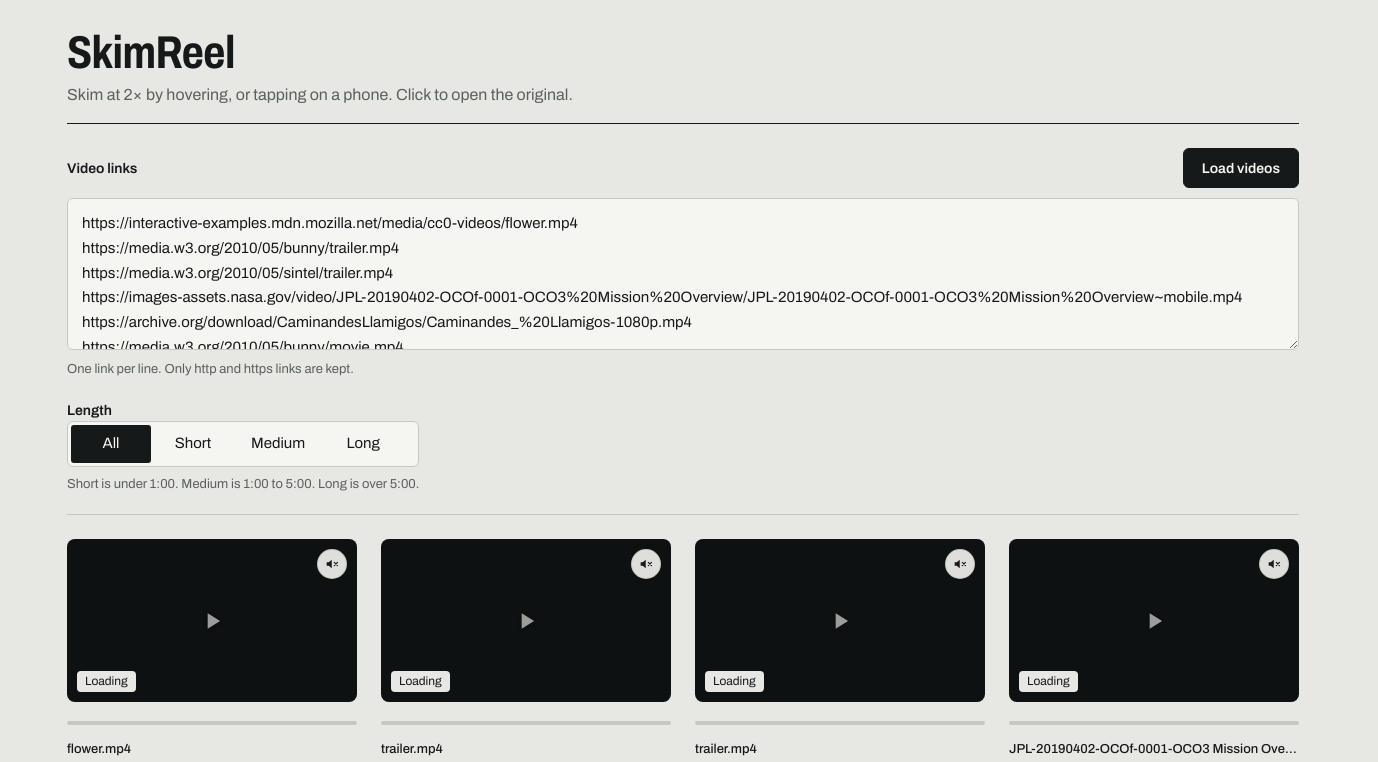
the length filter › hides videos with unknown length outside All, then moves them into place
Later steps or results of the test are not shown.
What coordinates should you click on to do the following:
click the radio button labelled "Short"
I would click on:
 (193, 444)
Its box is [175,436,211,452].
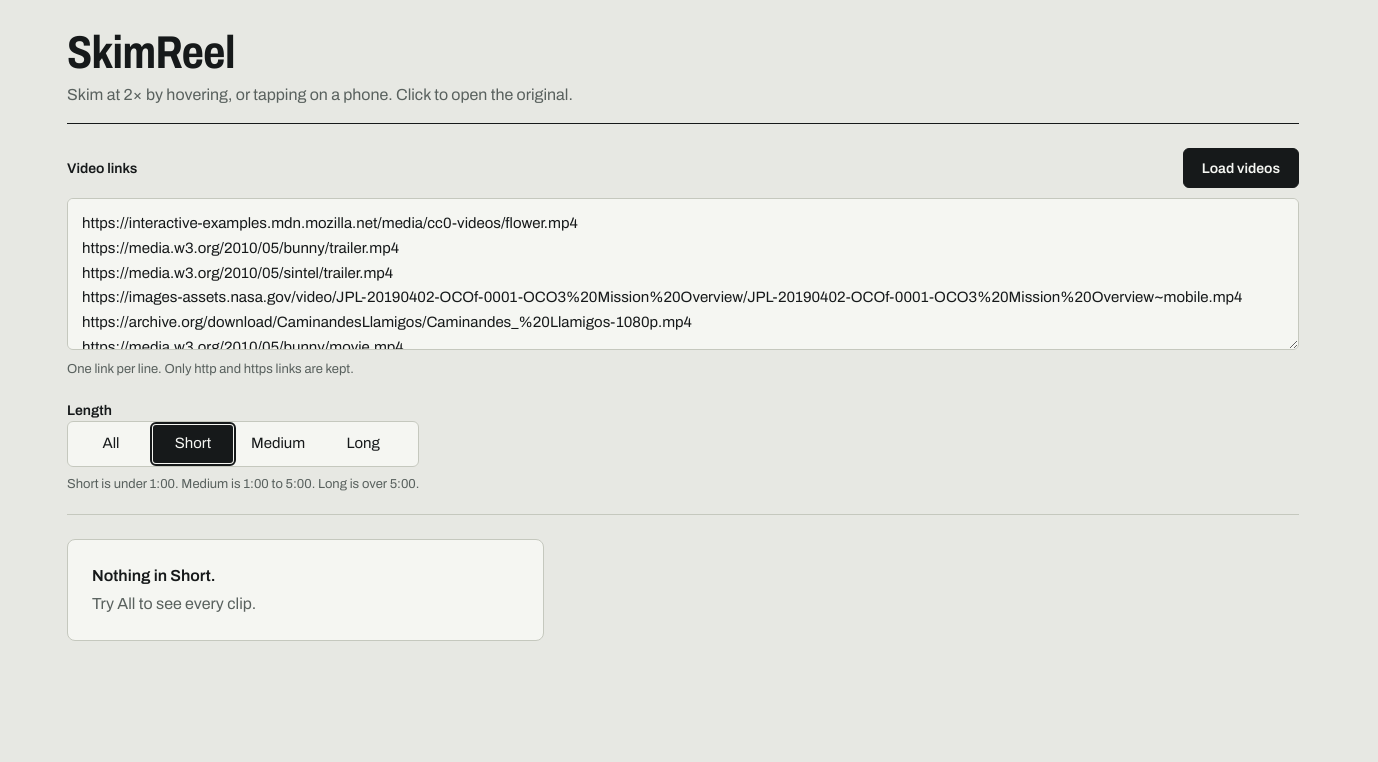
Now the text "Nothing in Short." is shown, box [92,567,216,584]
What coordinates should you click on to do the following:
click the radio button labelled "All"
I would click on:
 (111, 444)
Its box is [102,436,120,452].
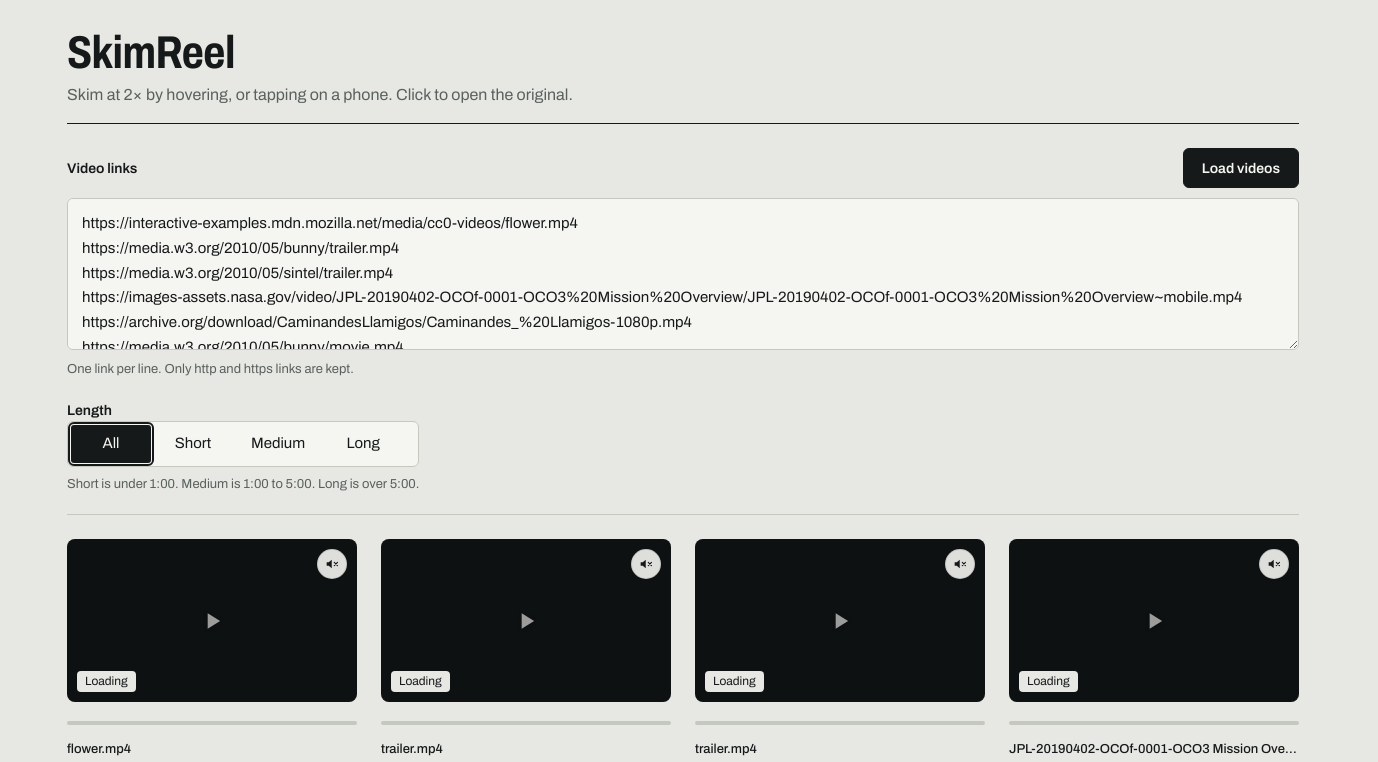
Now the text "Loading" is shown 9 times
